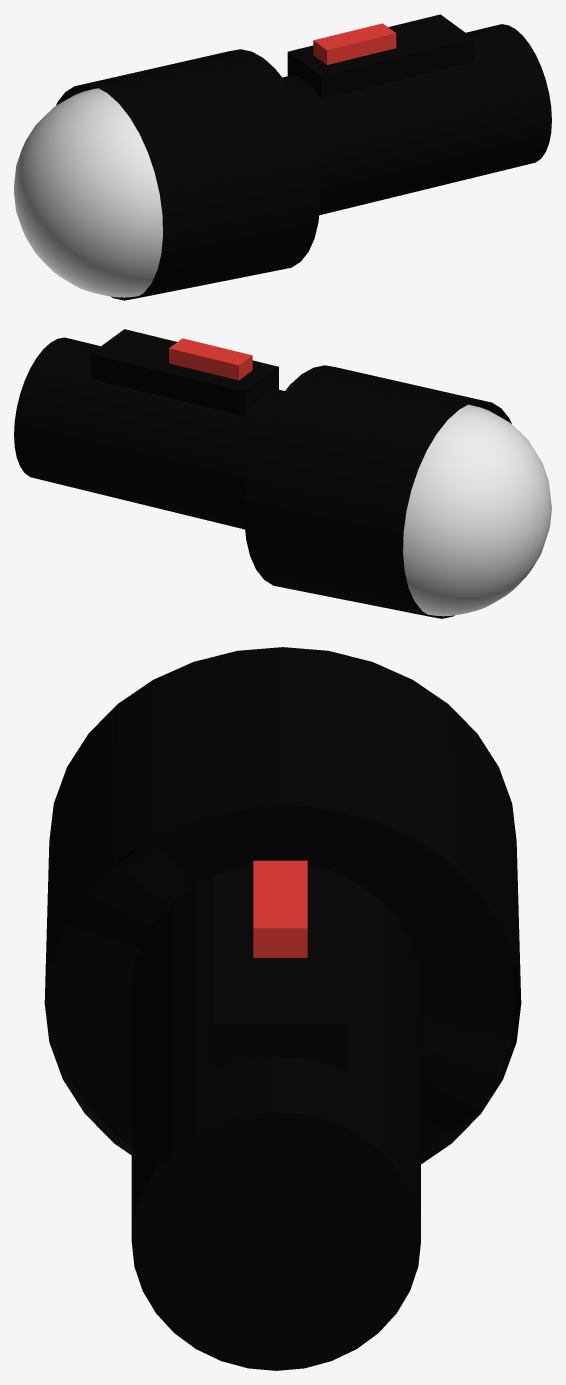
File: flashlight1.fbx
3 views of the same model, one above another, from view 1: azimuth 30°, elevation 25°; view 2: azimuth 150°, elevation 25°; view 3: azimuth 270°, elevation 25° (orthographic). The views are drawn at different scales.
Visible parts, largest first — view 1: Sphere, Cylinder, Sphere.001, Cube, Cube.001; view 2: Sphere, Cylinder, Sphere.001, Cube, Cube.001; view 3: Sphere, Cylinder, Cube, Cube.001.
Boxes of the visible parts, x1,y1,x2,y2 form: Sphere: [56, 49, 320, 300]; Cylinder: [282, 24, 551, 215]; Sphere.001: [14, 88, 162, 297]; Cube: [287, 14, 474, 98]; Cube.001: [313, 23, 396, 64]; Sphere: [244, 365, 511, 618]; Cylinder: [14, 337, 284, 529]; Sphere.001: [403, 404, 551, 616]; Cube: [90, 329, 278, 416]; Cube.001: [169, 338, 252, 380]; Sphere: [44, 647, 521, 1164]; Cylinder: [131, 863, 420, 1370]; Cube: [212, 875, 347, 1073]; Cube.001: [253, 860, 307, 957].
Size of the model in its own units: 238 by 96.03 by 102.
